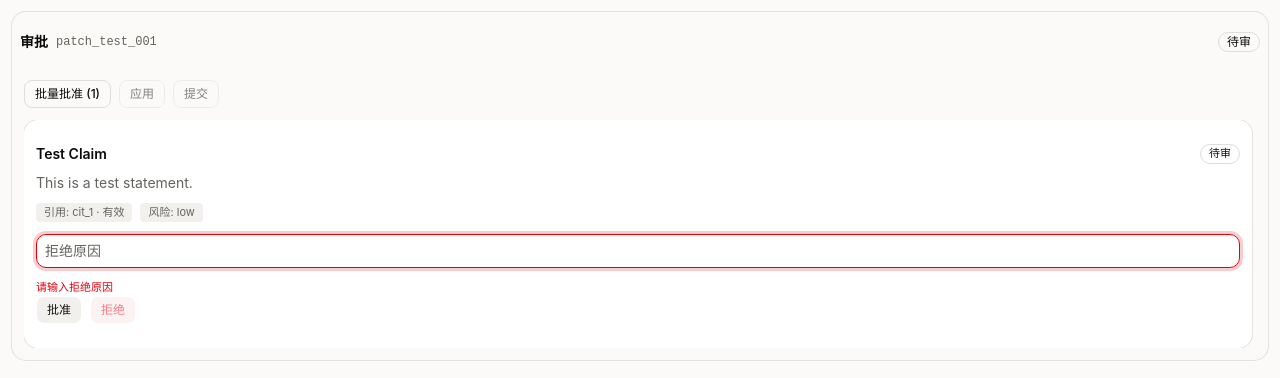
ApprovalWidget › enables_reject_button_after_entering_reason
Type "不符合要求" into the text box labelled "拒绝原因". click: (638, 252)
box: [36,234,1240,268]
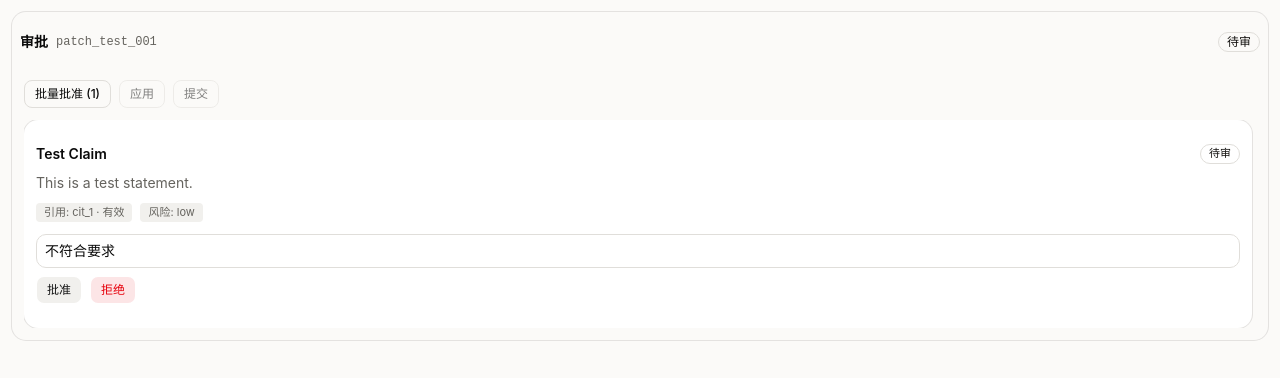
expect the button "拒绝" is enabled: met, box [90,276,136,304]
